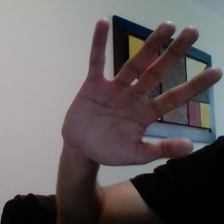left: (55, 12, 224, 173)
